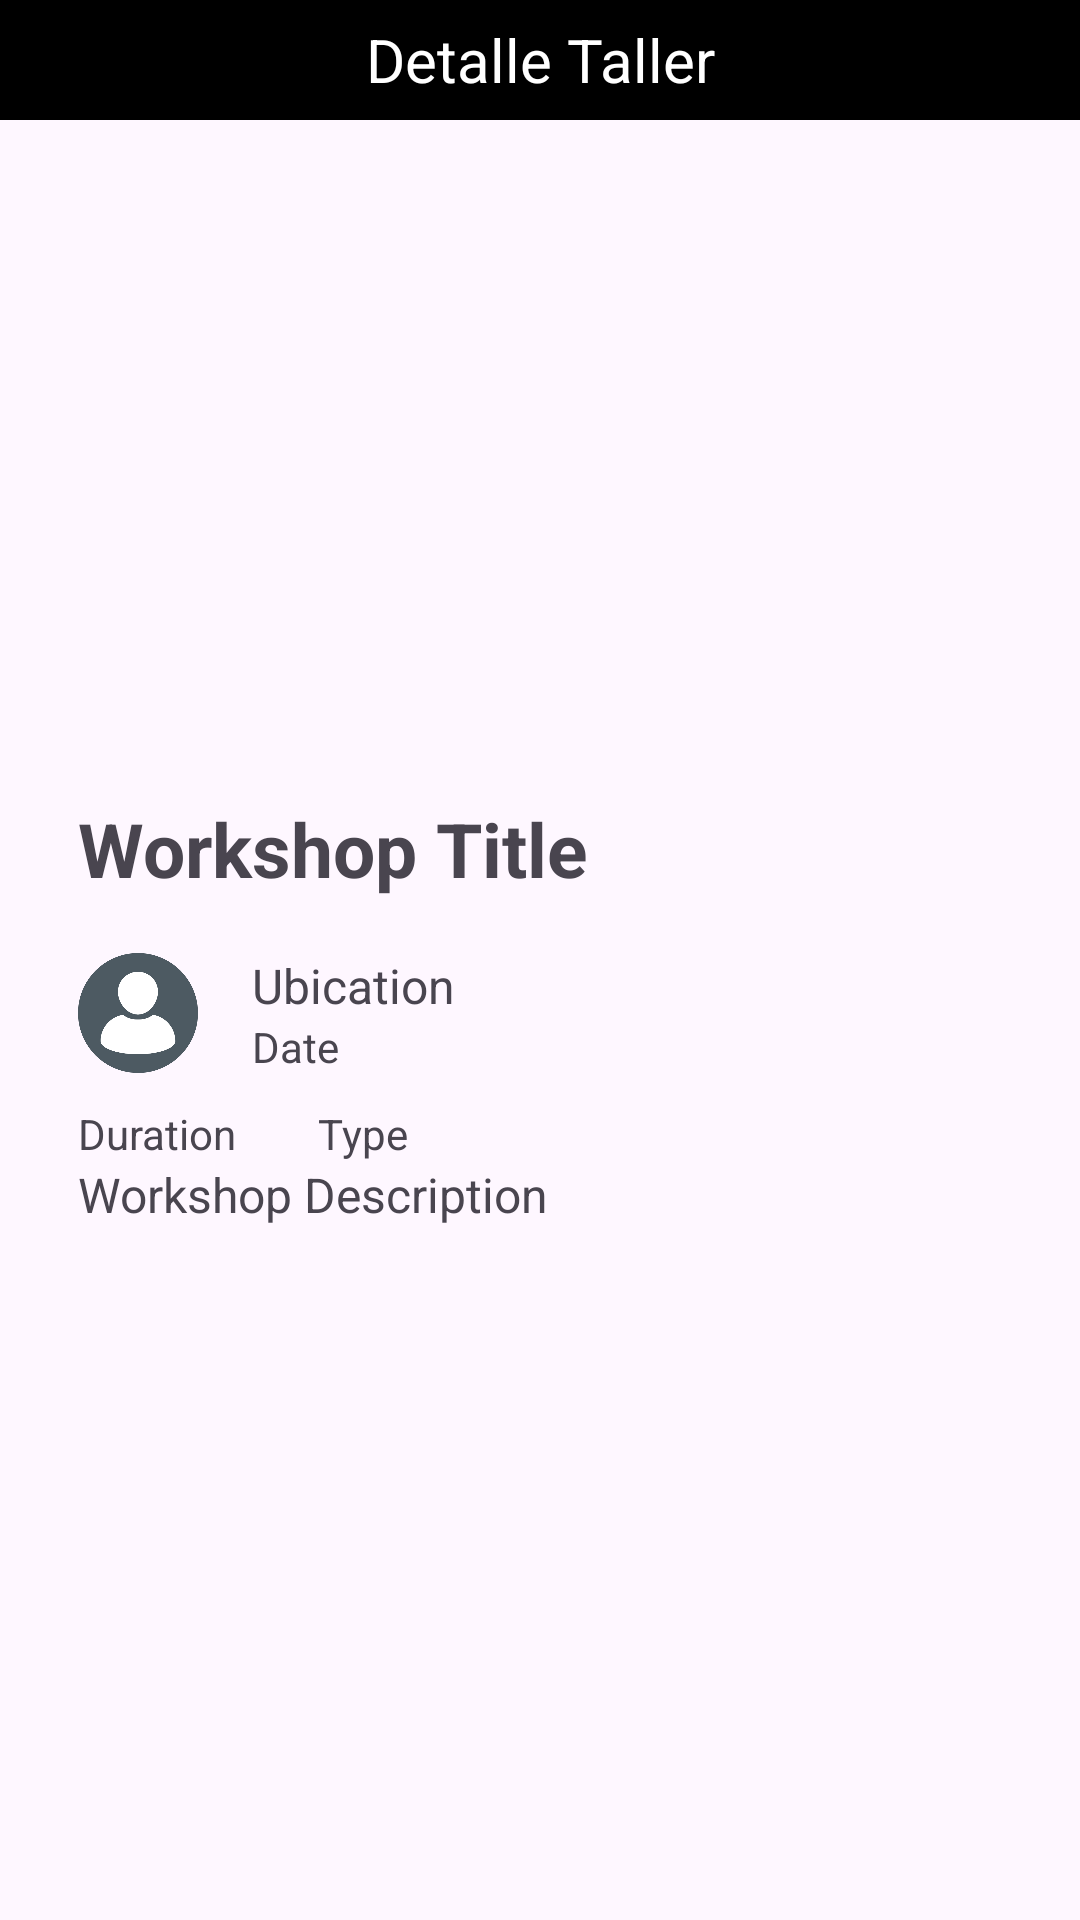

Where to tap for icons on this 1080px×1920px app screen, as point (x, y):
profile: point (138, 1013)
